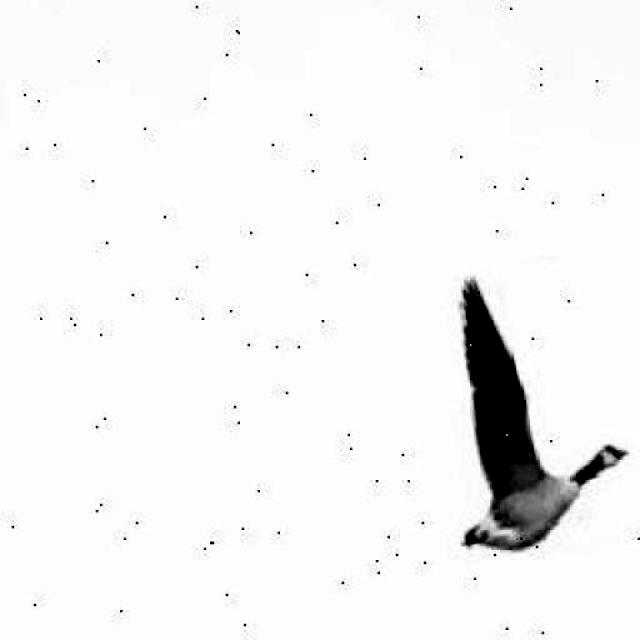airplane: (415, 252, 640, 562)
